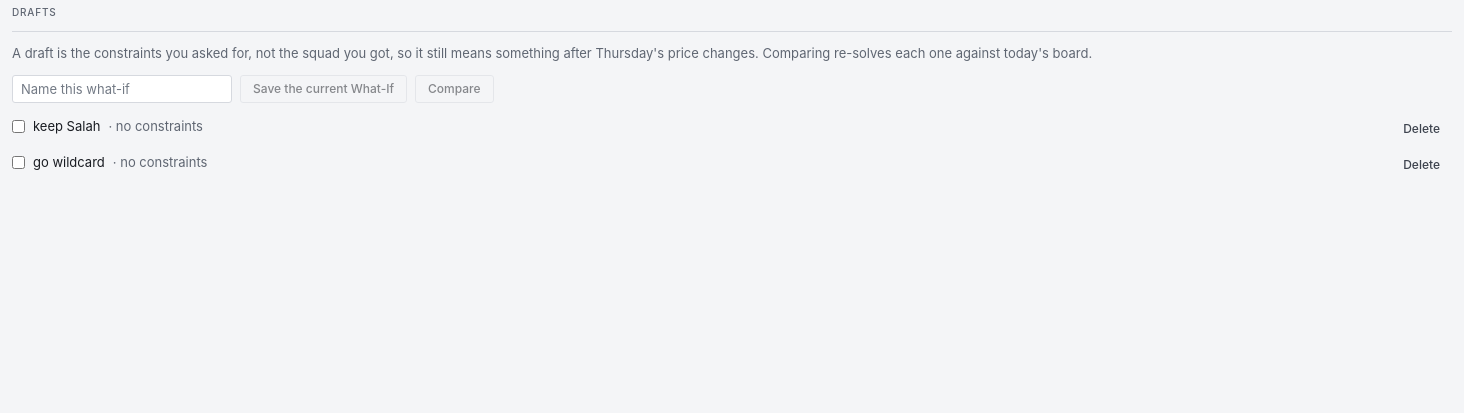
it: DraftsTab › gives an infeasible draft a row carrying its reason
Step 1. Click the checkbox named "compare go wildcard" → coordinates (18, 162), box [12,156,25,169]
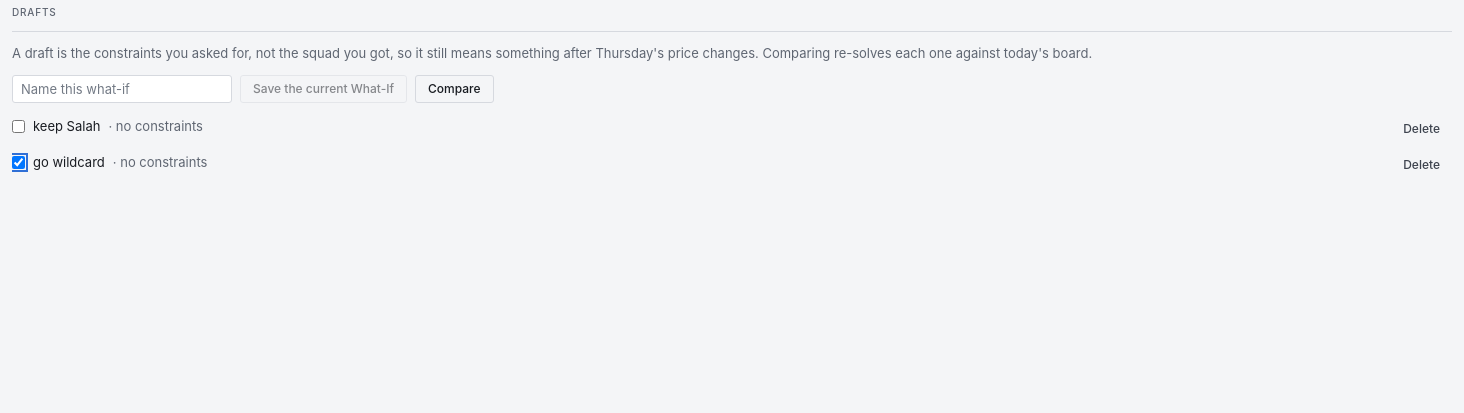
Step 2. Click the button "Compare" → coordinates (454, 89), box [415,75,494,103]
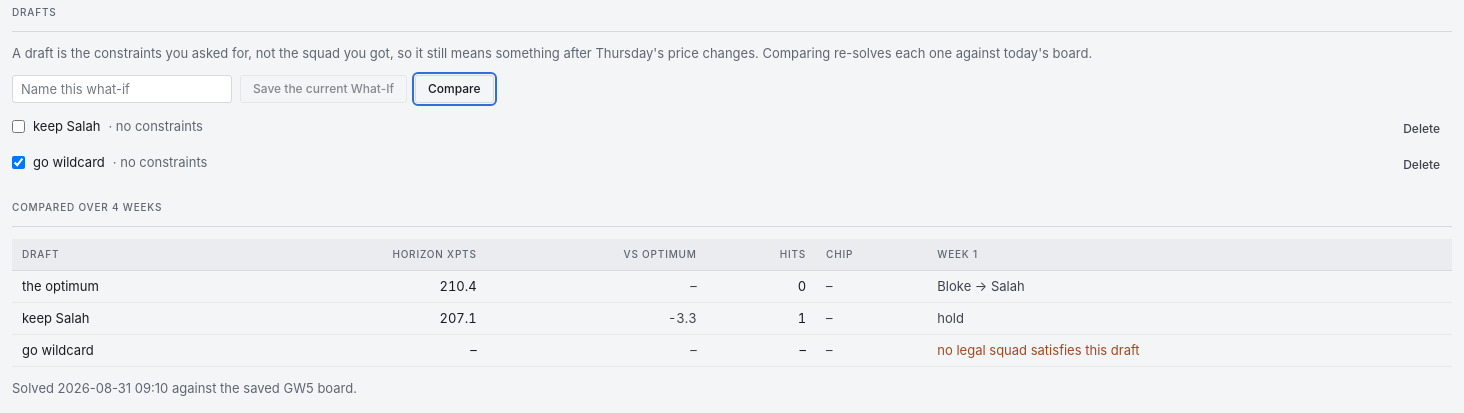
Check: the text "no legal squad satisfies this draft" is shown, box [937,342,1140,358]
